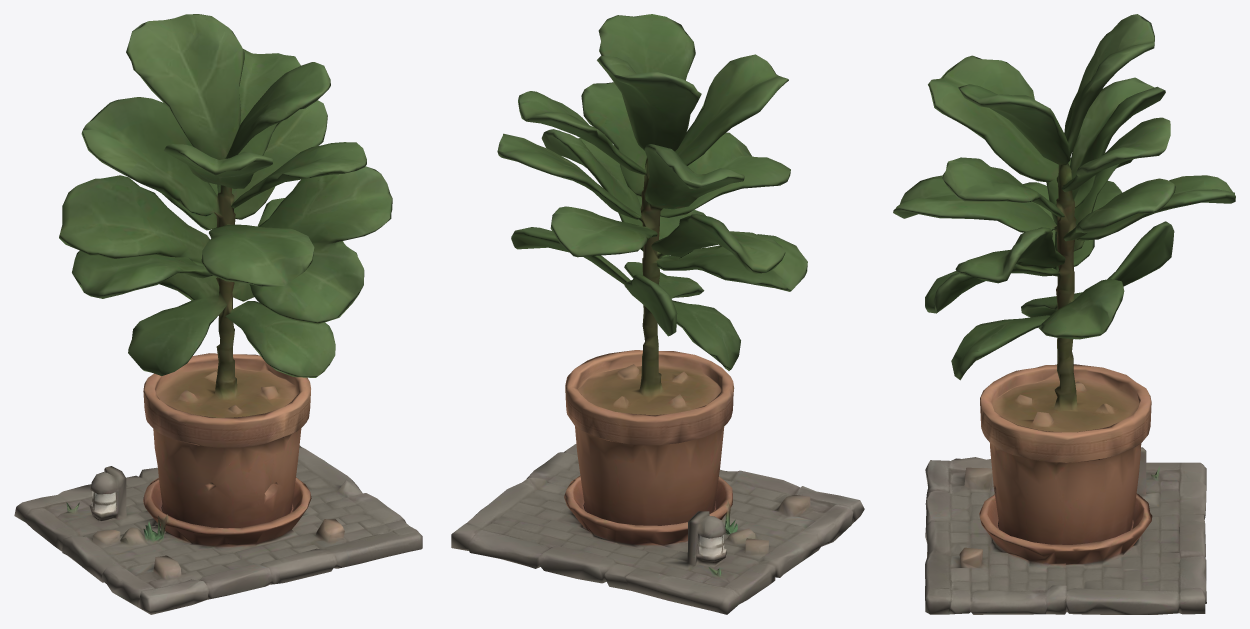
File: office_plant.glb
The picture shows the model from 3 angles, left to right: view 1: azimuth 30°, elevation 25°; view 2: azimuth 150°, elevation 25°; view 3: azimuth 270°, elevation 25°; orthographic projection. The views are drawn at different scales.
Visible parts, largest first — view 1: tripo_node_ec51538c-11c2-4a15-9772-125d2ff7bd92; view 2: tripo_node_ec51538c-11c2-4a15-9772-125d2ff7bd92; view 3: tripo_node_ec51538c-11c2-4a15-9772-125d2ff7bd92.
Part boxes in pixels (x1,y1,x2,y2): tripo_node_ec51538c-11c2-4a15-9772-125d2ff7bd92: (14, 14, 422, 614); tripo_node_ec51538c-11c2-4a15-9772-125d2ff7bd92: (451, 14, 864, 614); tripo_node_ec51538c-11c2-4a15-9772-125d2ff7bd92: (893, 14, 1235, 614).
Size of the model in its own units: 0.6004 by 1 by 0.6114.
Materials: 1 (1 with a texture image).
